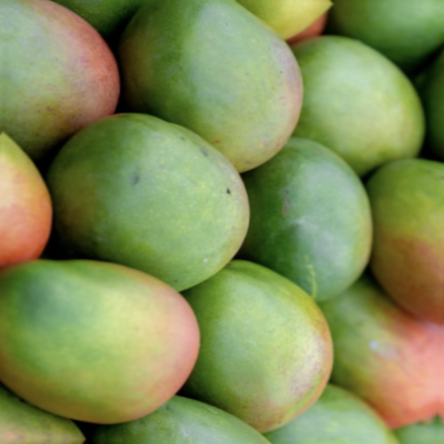mango: (48, 98, 258, 311), (0, 238, 207, 442), (98, 0, 323, 177), (239, 127, 399, 314)
